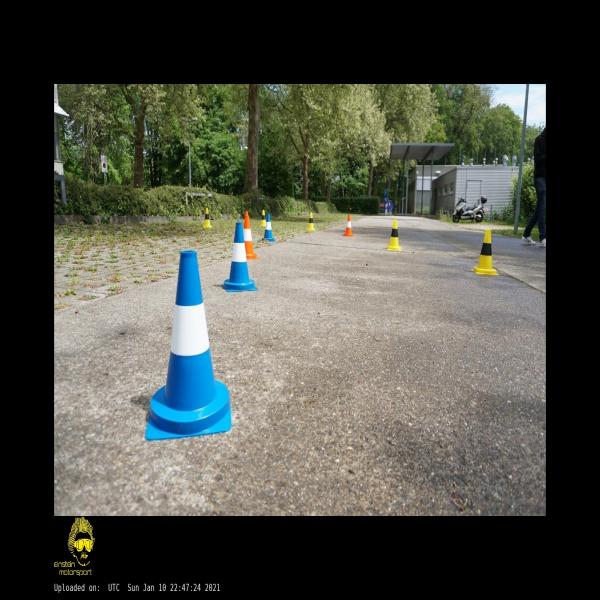blue_cone: (146, 250, 231, 439), (221, 222, 258, 292), (262, 214, 275, 241)
orange_cone: (242, 211, 256, 259), (344, 215, 353, 236)
yellow_cone: (472, 230, 498, 275), (387, 220, 401, 250), (202, 208, 212, 228), (307, 212, 315, 230), (261, 210, 266, 226)
